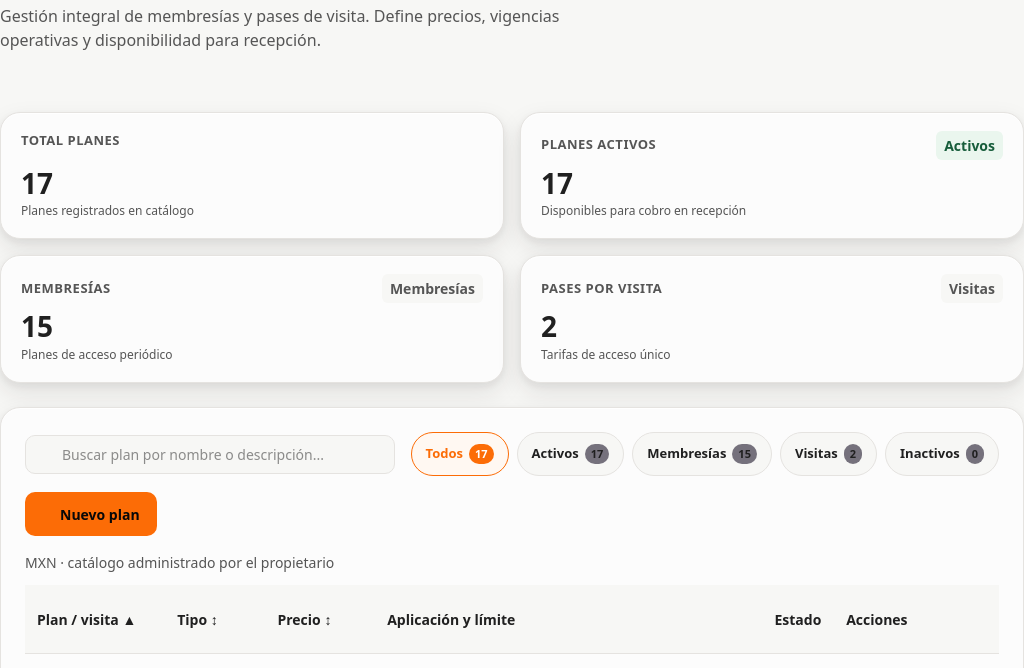
Test: PlanCatalog owner screen › opens and closes "Nuevo plan" modal with form validation and creates a plan
Click the button "Nuevo plan" at (91,514), box [25, 492, 157, 536]
(page scrolled)
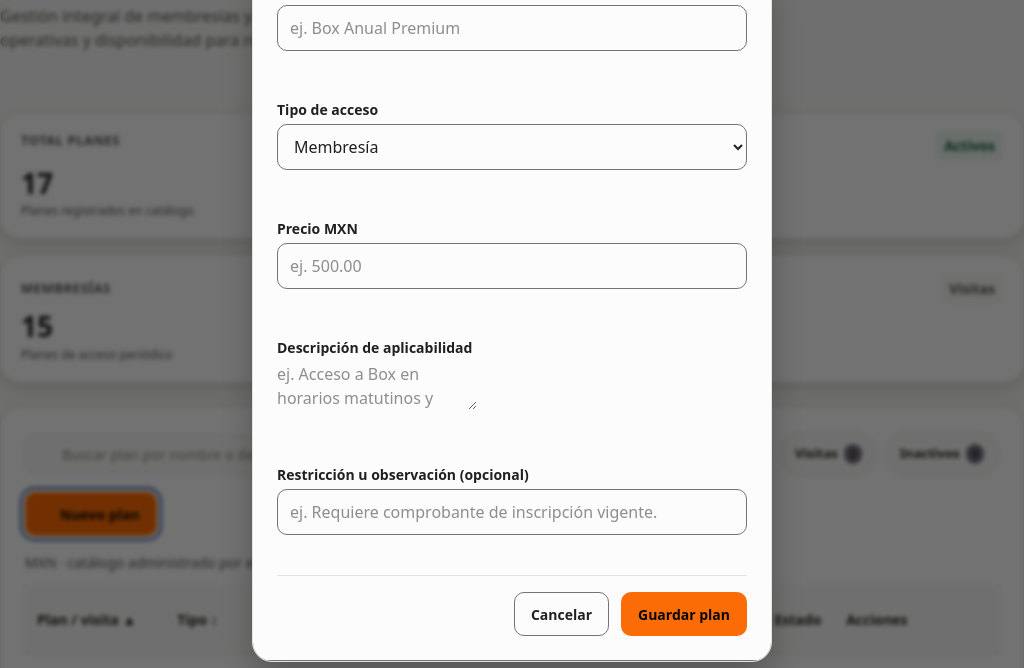
# Validation check on empty submit
Click the button "Guardar plan" at (684,614), box [621, 592, 747, 636]
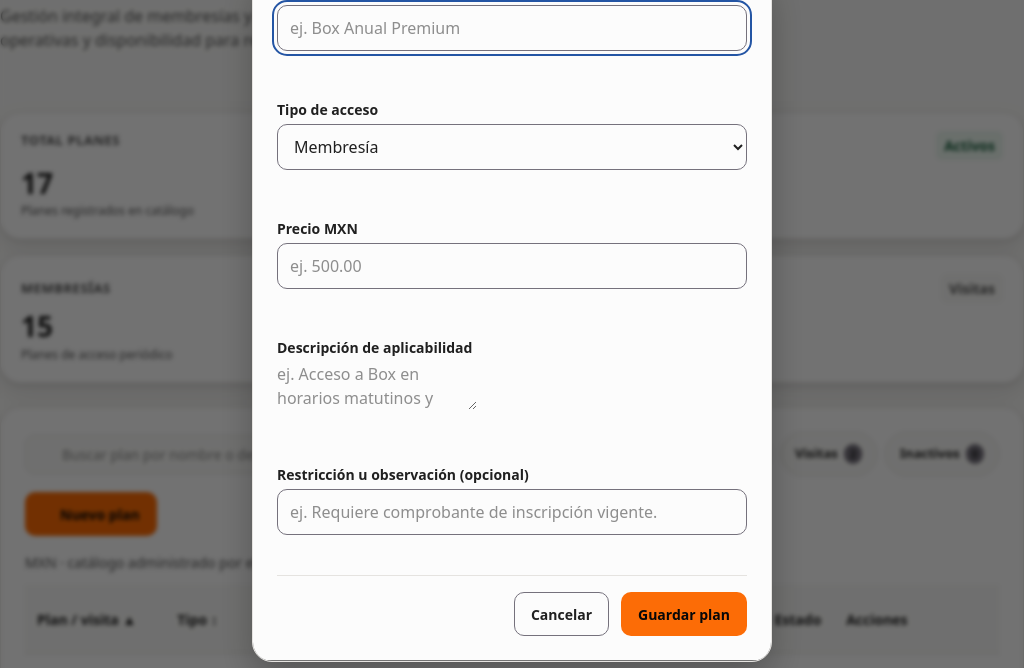
# Fill valid data
Type "Plan Box Pro" into the field labelled "Nombre del plan" at (512,28), box [277, 5, 747, 51]
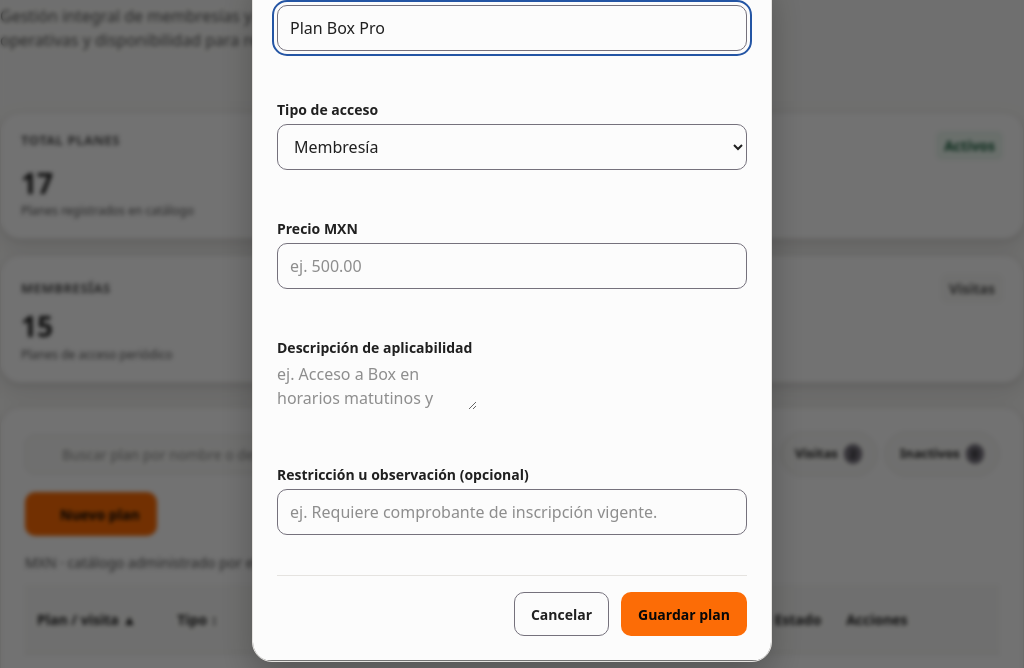
Type "650" into the number field labelled "Precio MXN" at (512,266), box [277, 243, 747, 289]
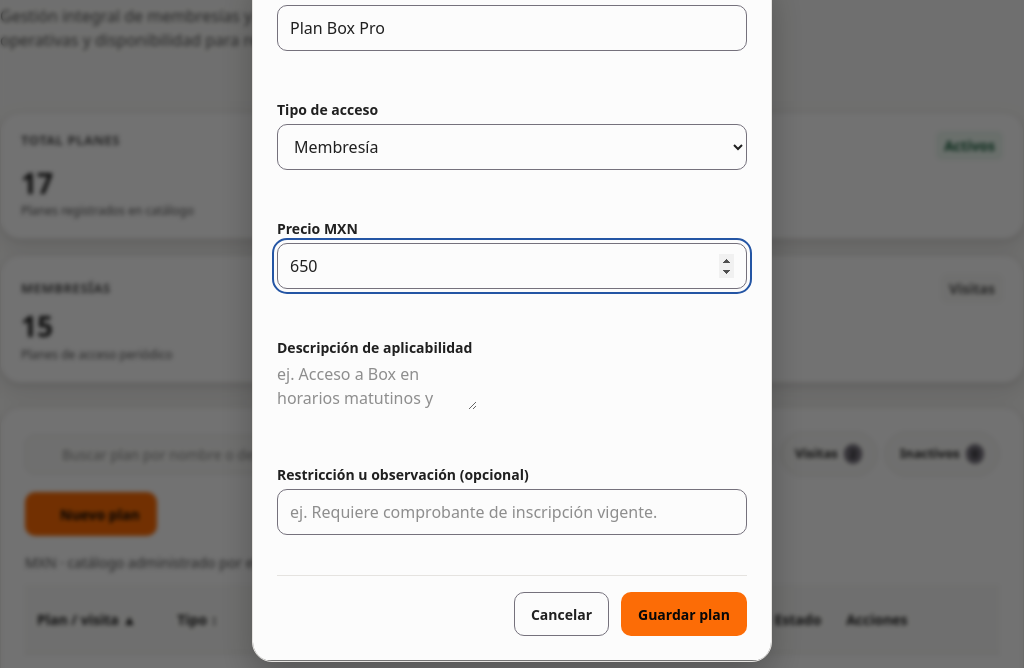
Type "Box avanzado con acceso a ring y sparring." into the text box labelled "Descripción de aplicabilidad" at (377,386), box [277, 362, 477, 410]
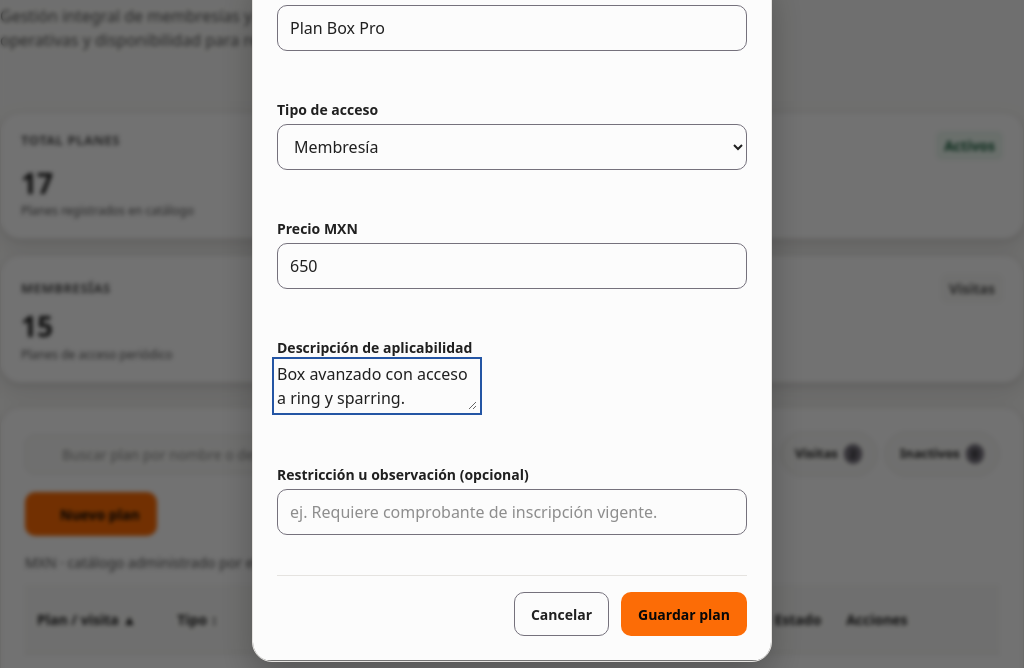
Click the button "Guardar plan" at (684,614), box [621, 592, 747, 636]
(page scrolled)
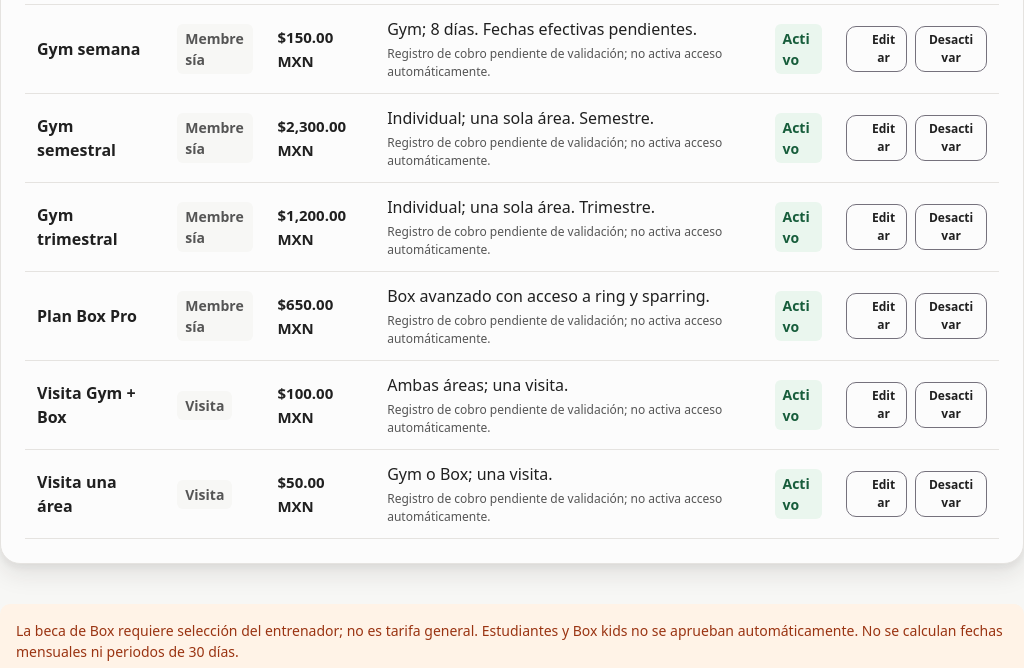
Expected: the heading "Nuevo plan" is not shown
Expected: the text "Plan Box Pro" is shown, [37, 304, 153, 328]
Expected: the text "$650.00 MXN" is shown, [278, 294, 333, 338]
